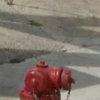Hydrant: (22, 48, 79, 100)
